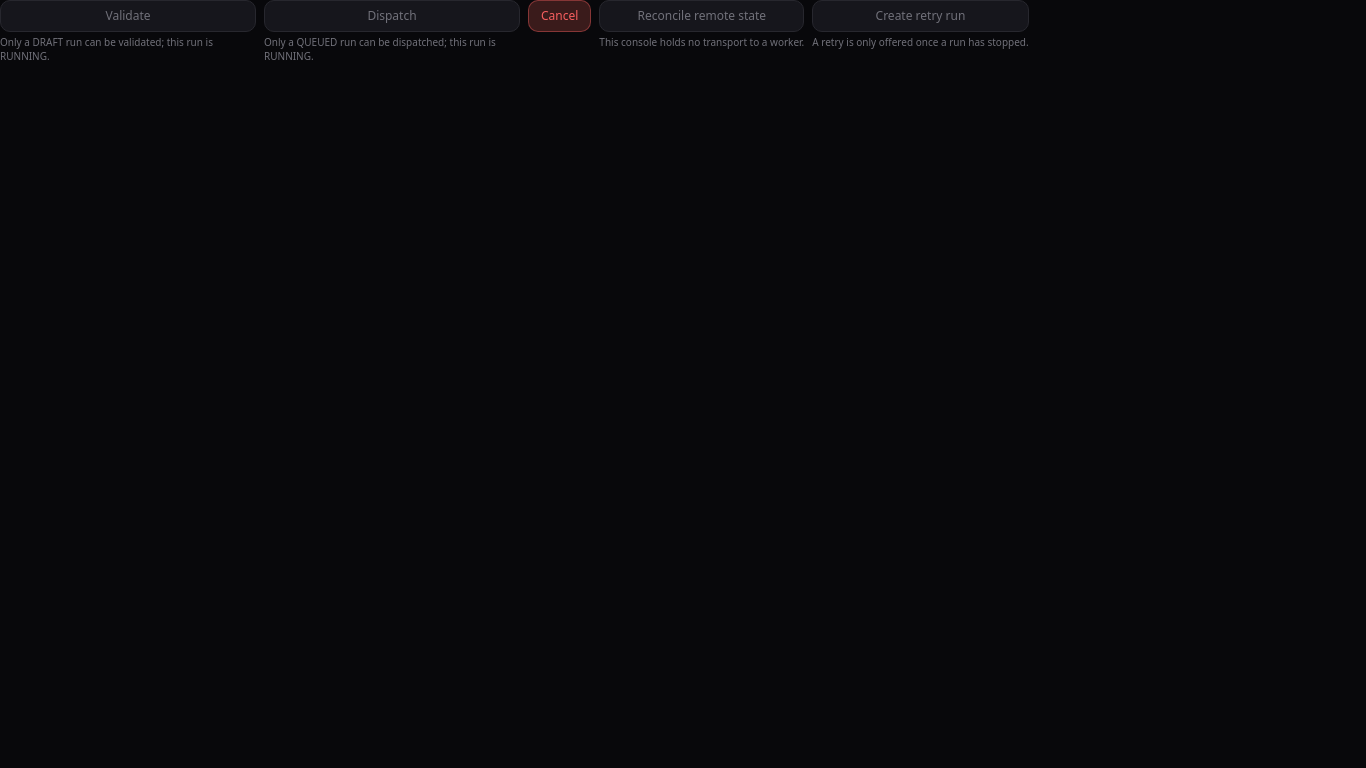
Scenario: run actions › surfaces a server refusal instead of failing silently
This screenshot has width=1366, height=768.
Click the button "Cancel".
click(560, 16)  # box [528,0,591,32]
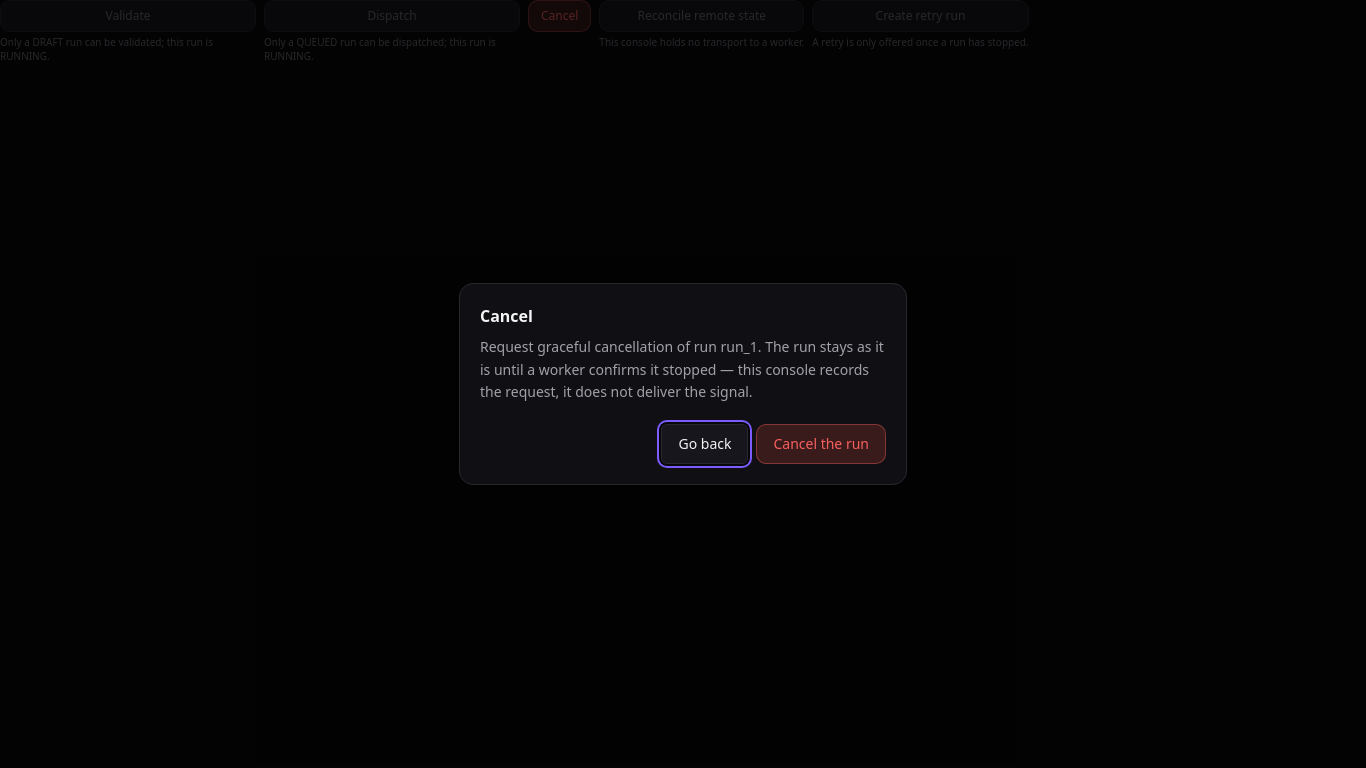
Click the button "Cancel the run".
click(821, 444)  # box [756,424,886,464]
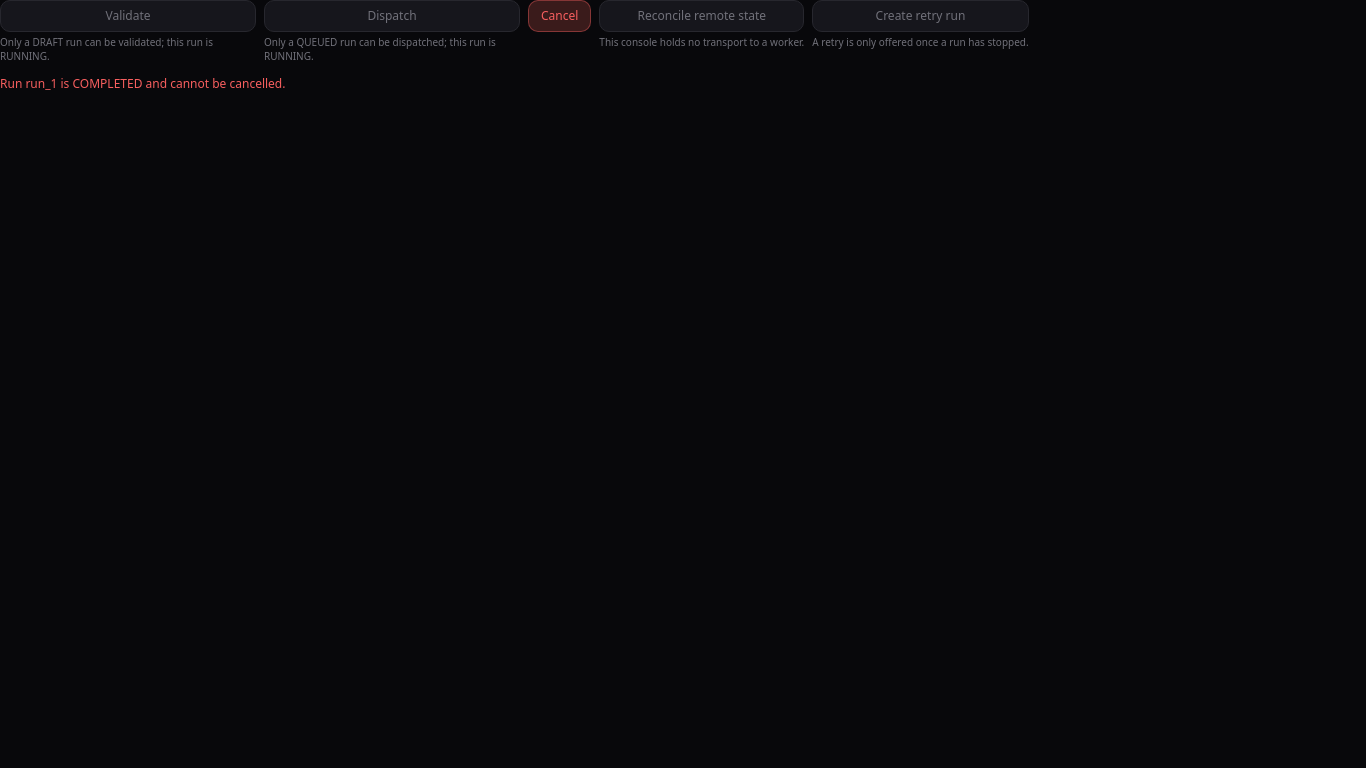
Expected: the message reads "Run run_1 is COMPLETED and cannot be cancelled.", [0,74,286,92]
